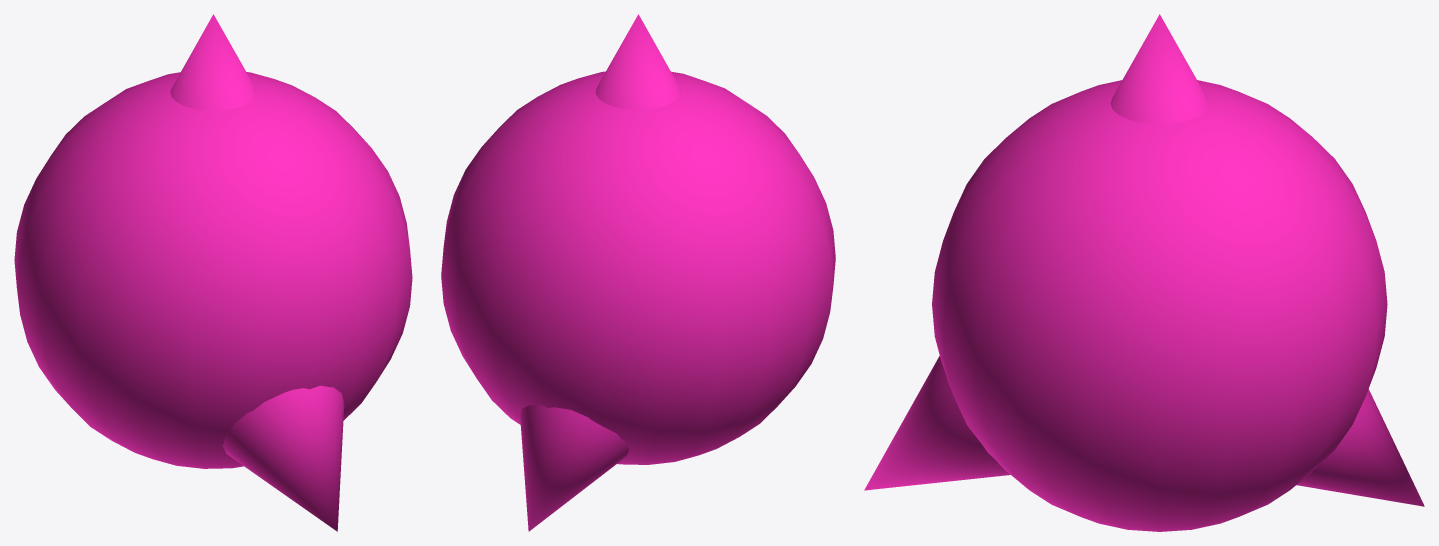
The model's file is projectile.fbx.
3 views of the same model, side by side, from view 1: azimuth 30°, elevation 25°; view 2: azimuth 150°, elevation 25°; view 3: azimuth 270°, elevation 25° (orthographic). The views are drawn at different scales.
Parts seen in each view (by area): view 1: pCone4; view 2: pCone4; view 3: pCone4.
Part boxes in pixels (x1,y1,x2,y2): pCone4: [14, 14, 412, 531]; pCone4: [441, 14, 835, 531]; pCone4: [864, 14, 1424, 531].
Size of the model in its own units: 2 by 2.41 by 2.46.
